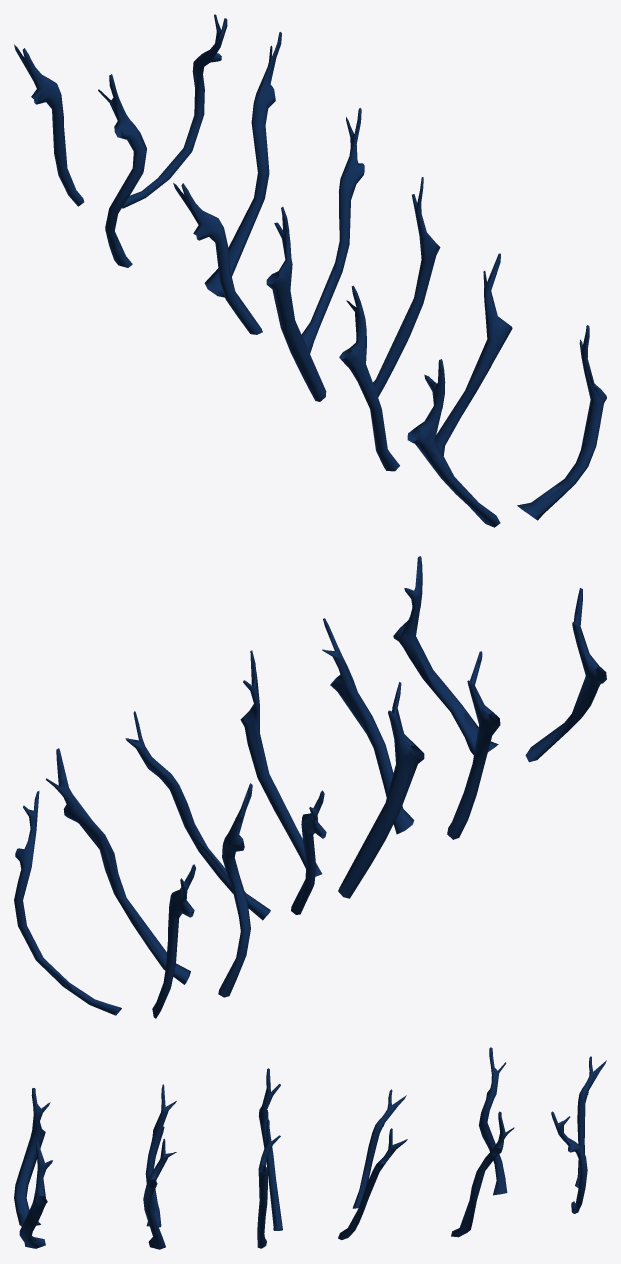
Rendered from venae lumbales.fbx.
The picture shows the model from 3 angles, top to bottom: view 1: azimuth 30°, elevation 25°; view 2: azimuth 150°, elevation 25°; view 3: azimuth 270°, elevation 25°; orthographic projection. The views are drawn at different scales.
Visible parts, largest first — view 1: venae lumbales, venae lumbales low; view 2: venae lumbales, venae lumbales low; view 3: venae lumbales, venae lumbales low.
Part boxes in pixels (x1=…): venae lumbales: x1=14, y1=14, x2=606, y2=527; venae lumbales low: x1=15, y1=19, x2=605, y2=525; venae lumbales: x1=14, y1=556, x2=606, y2=1018; venae lumbales low: x1=16, y1=558, x2=606, y2=1016; venae lumbales: x1=14, y1=1047, x2=606, y2=1249; venae lumbales low: x1=15, y1=1049, x2=604, y2=1248.
Bounding box in the file's own units: 6.25 × 7.18 × 22.68.
